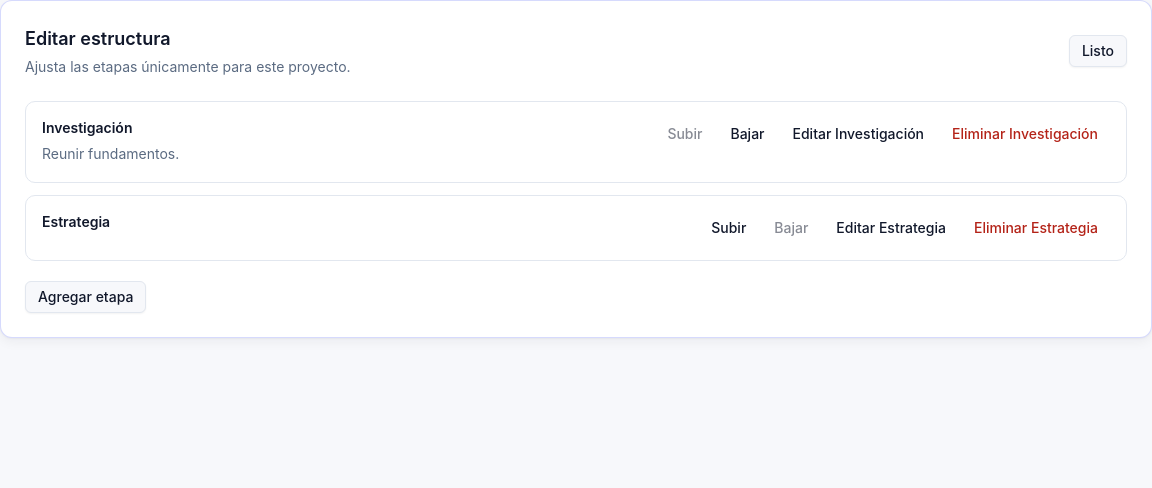
Scenario: ProjectStageEditor › keeps deletion confirmation open after a failed request
What coordinates should you click on to do the following:
click the button "Eliminar Investigación"
I would click on:
 (1025, 134)
Its box is [940,118,1110,150].
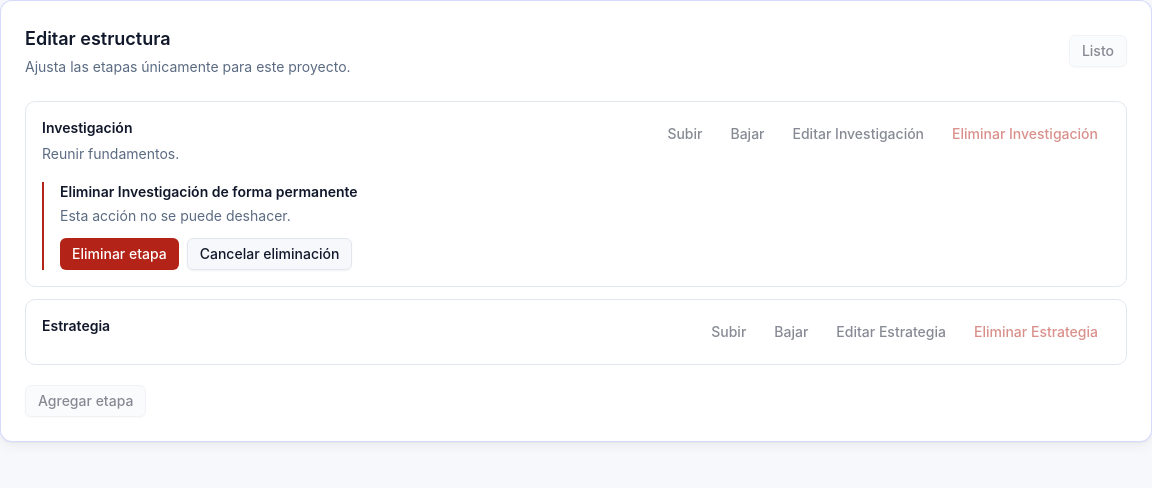
What coordinates should you click on to do the following:
click the button "Eliminar etapa"
I would click on:
 (119, 254)
Its box is [60,238,179,270].
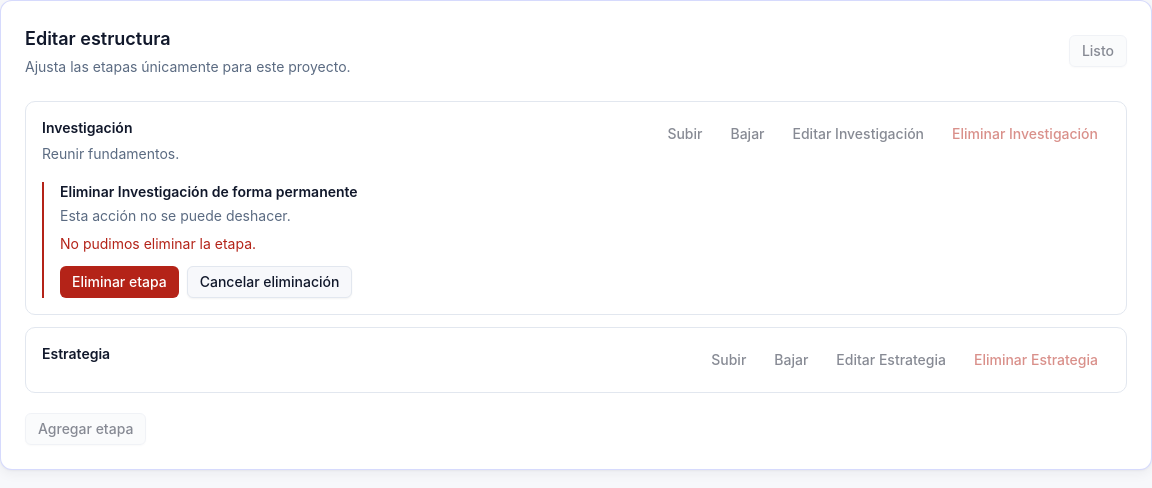
Expected: the button "Eliminar etapa" is shown, [60,266,179,298]
Expected: the text "No pudimos eliminar la etapa." is shown, [60,235,256,252]
